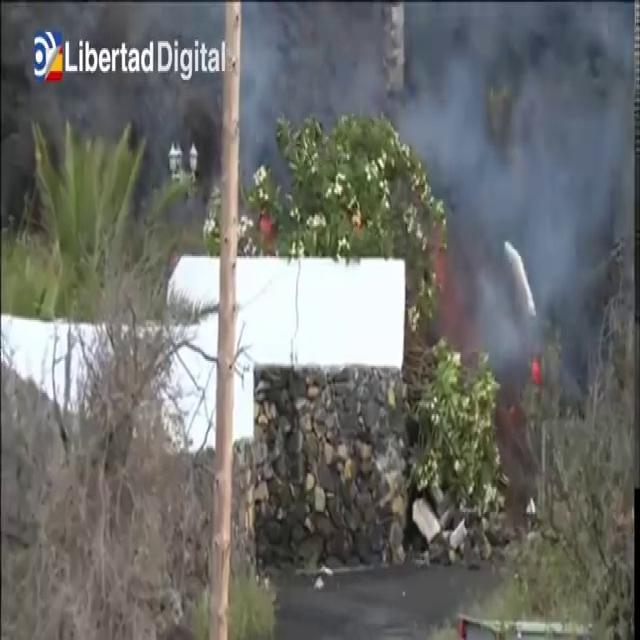Smoke: (400, 1, 634, 372)
